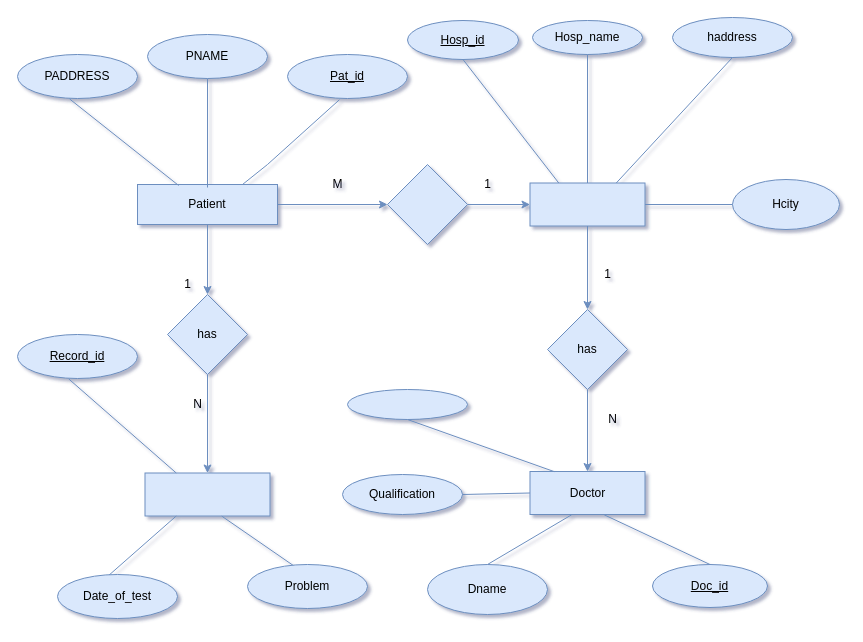
This 863x642 diagram has some shape labels left out. Each missing label, with the centre of its shape:
Admitted In: the point at 427,204
Hospital: the point at 587,204
Medical Record: the point at 207,494
Salary: the point at 407,404
